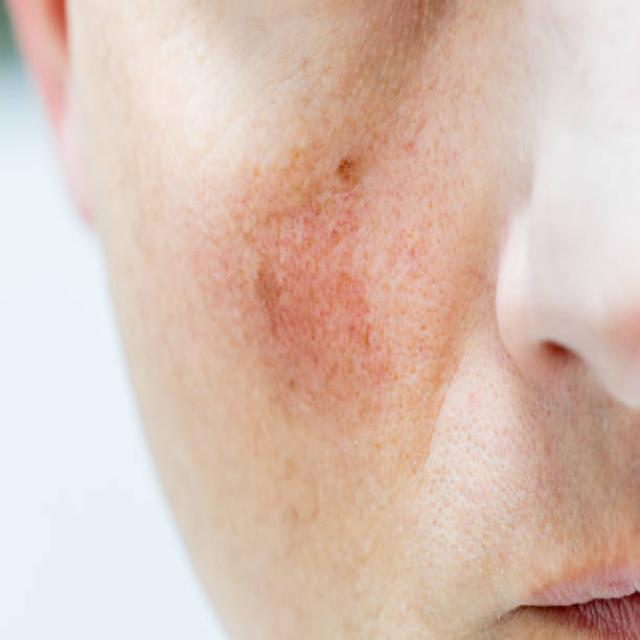Dry-Skin: (130, 49, 324, 359), (439, 52, 580, 291), (196, 188, 362, 375), (273, 470, 363, 634), (557, 420, 640, 560), (415, 451, 533, 544), (293, 56, 397, 160), (393, 315, 445, 415)
